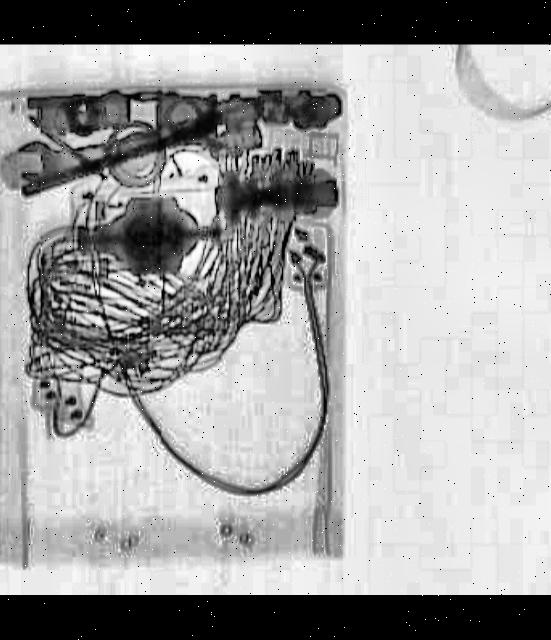Wrench: (11, 106, 232, 190)
